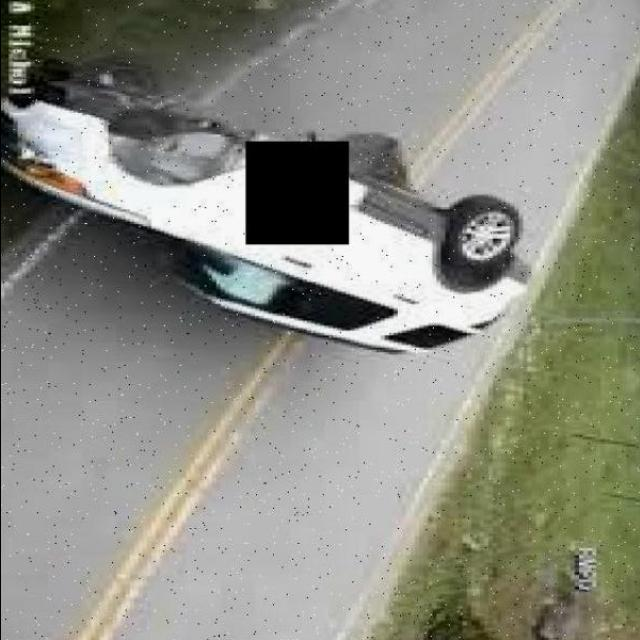accident: (0, 52, 549, 361)
